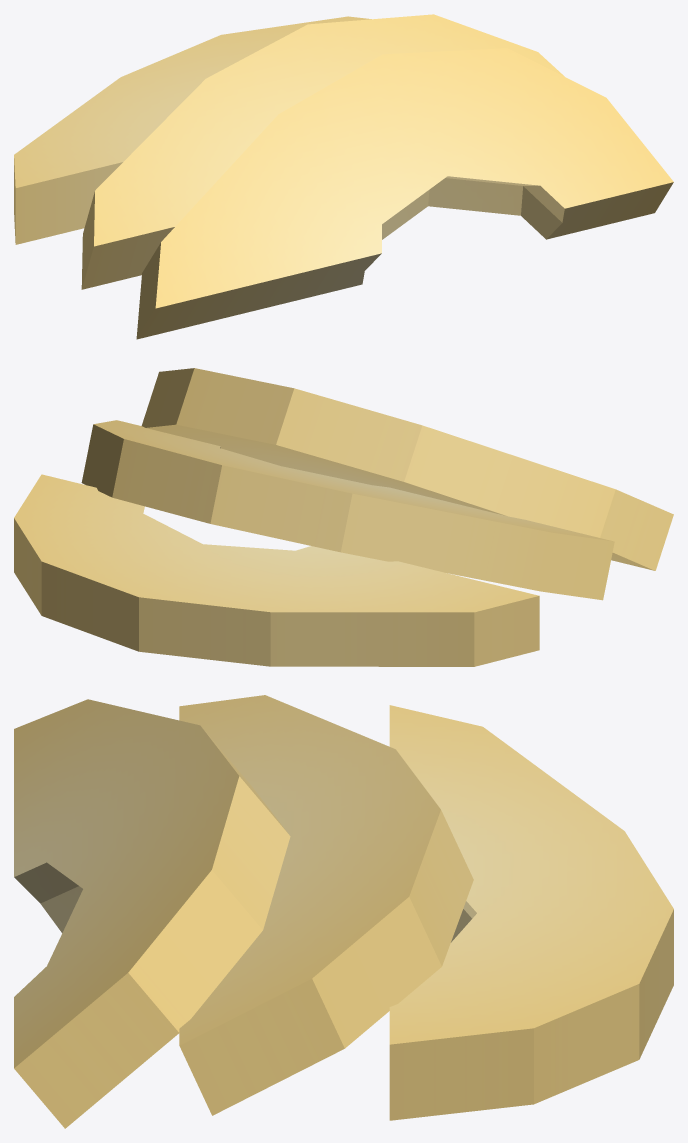
File: Avocado Slice.fbx
The picture shows the model from 3 angles, top to bottom: view 1: azimuth 30°, elevation 25°; view 2: azimuth 150°, elevation 25°; view 3: azimuth 270°, elevation 25°; orthographic projection. The views are drawn at different scales.
Visible parts, largest first — view 1: Avocado Slice.002, Avocado Slice.001, Avocado Slice; view 2: Avocado Slice, Avocado Slice.001, Avocado Slice.002; view 3: Avocado Slice.002, Avocado Slice, Avocado Slice.001.
Boxes of the visible parts, box(x1,y1,x2,y2) form: Avocado Slice.002: box(136, 48, 673, 339); Avocado Slice.001: box(81, 14, 564, 289); Avocado Slice: box(14, 16, 371, 244); Avocado Slice: box(14, 474, 539, 666); Avocado Slice.001: box(81, 420, 614, 600); Avocado Slice.002: box(141, 368, 673, 570); Avocado Slice.002: box(14, 699, 290, 1128); Avocado Slice: box(389, 705, 673, 1120); Avocado Slice.001: box(179, 695, 473, 1115).
Bounding box in the file's own units: 18.65 × 5.57 × 15.32.
